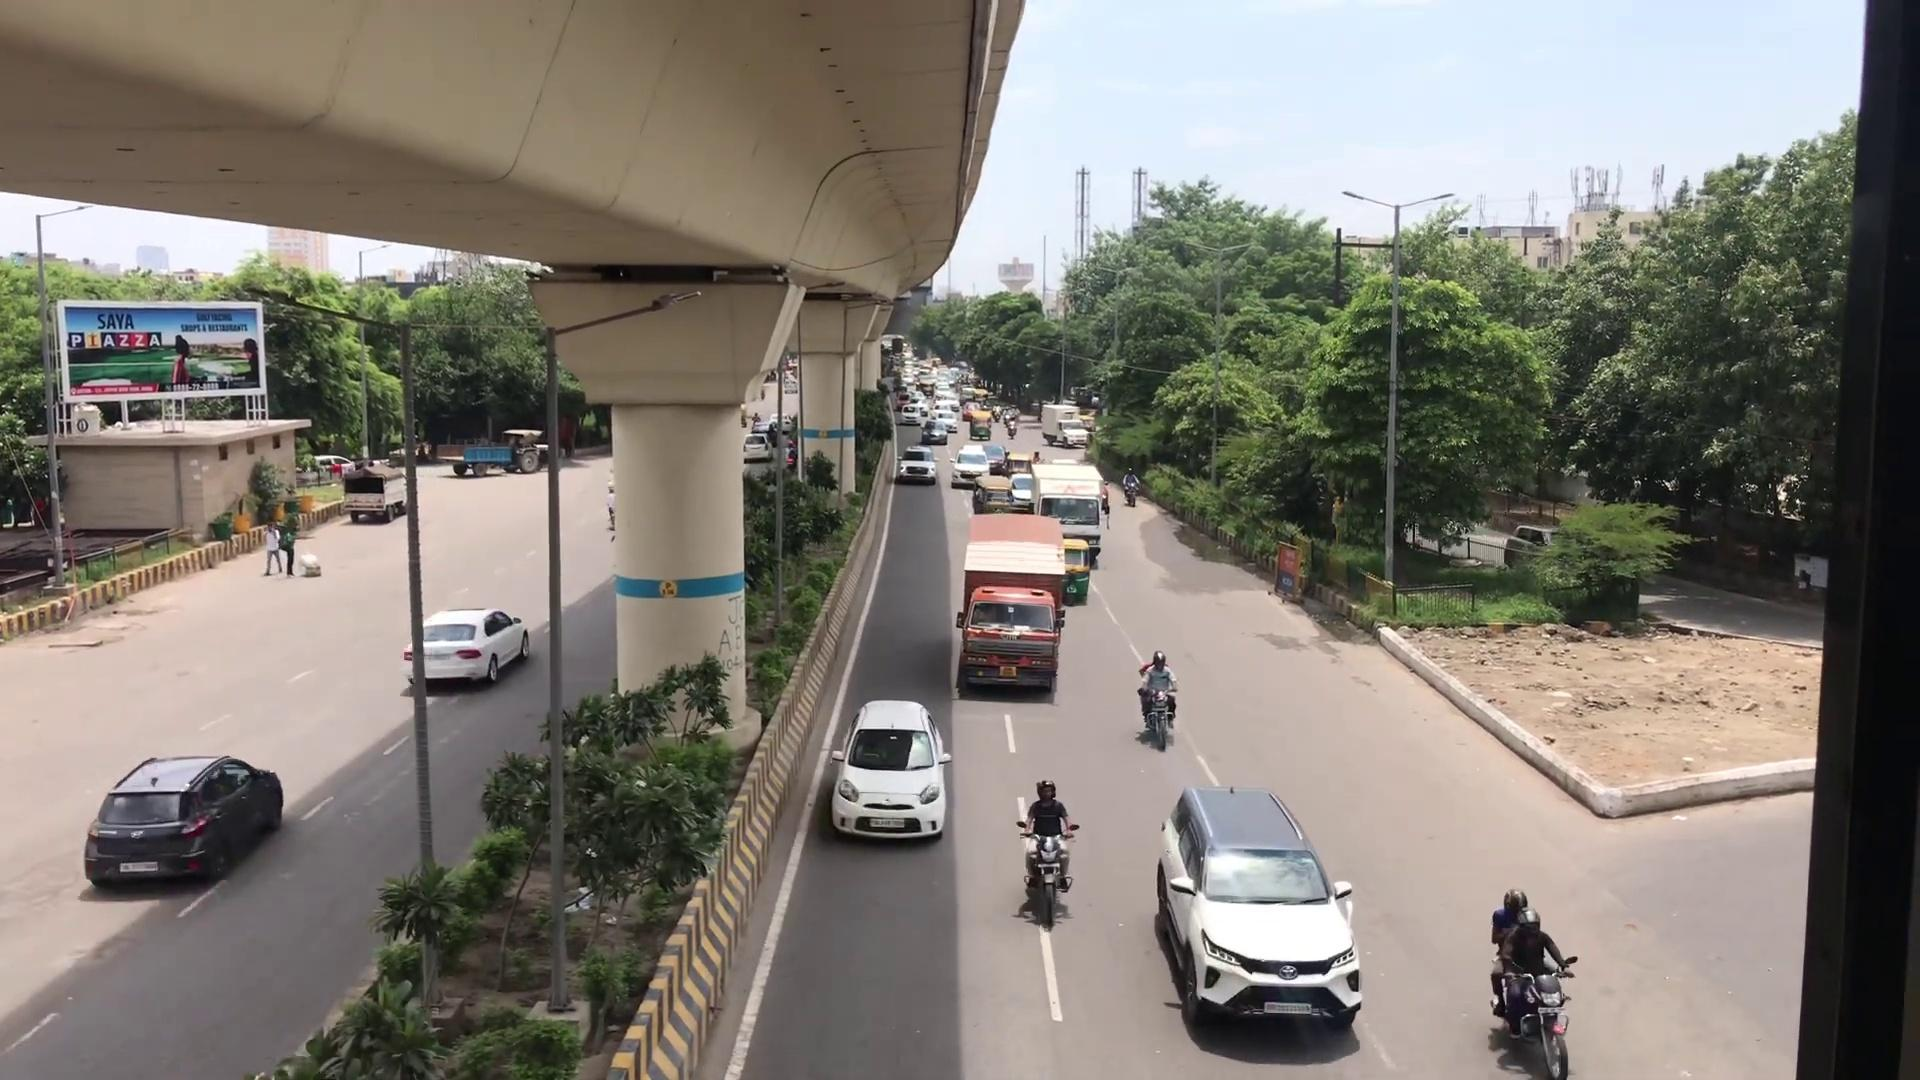Bike: (1487, 877, 1576, 1079), (1018, 771, 1075, 934), (1138, 641, 1178, 749)
Car: (1156, 781, 1364, 1027), (79, 749, 282, 889), (825, 695, 948, 847), (413, 601, 530, 686)
Truck: (951, 513, 1071, 696)
